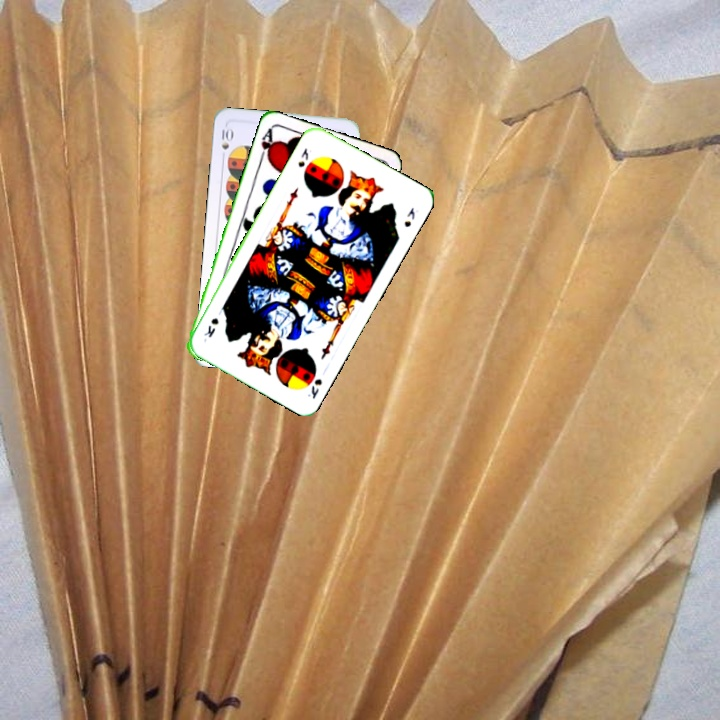HA: (256, 125, 278, 165)
S10: (218, 124, 235, 163)
SK: (303, 374, 325, 402), (294, 144, 311, 170)
